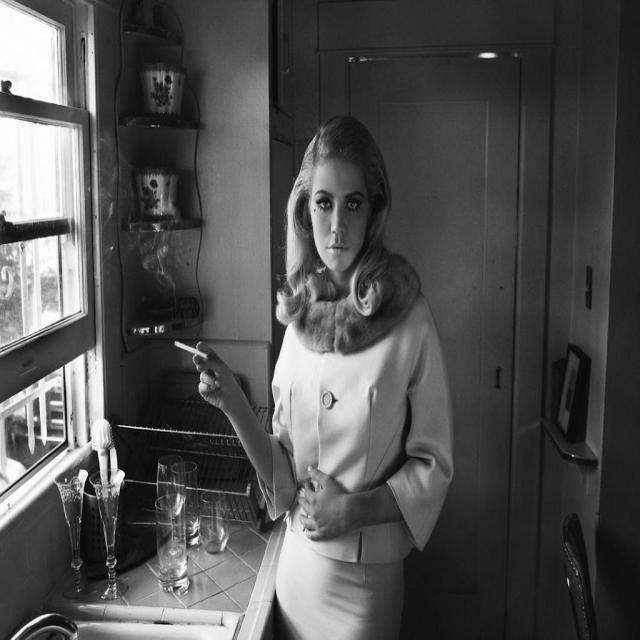smoking: (169, 113, 414, 435)
